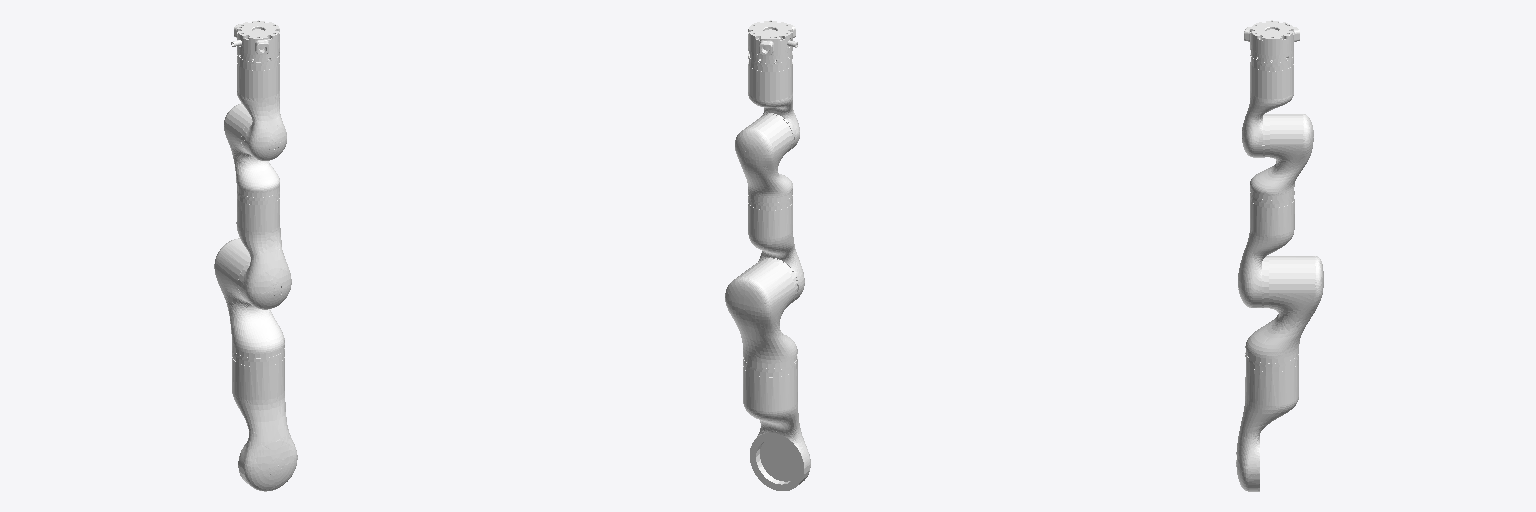
The robot description file, URDF, robot "rm_65_zf_description":
<?xml version="1.0" encoding="utf-8"?>
<!-- This URDF was automatically created by SolidWorks to URDF Exporter! Originally created by [author] ([email redacted]) 
     Commit Version: 1.6.0-1-g15f4949  Build Version: 1.6.7594.29634
     For more information, please see http://wiki.ros.org/sw_urdf_exporter -->
<robot
  name="rm_65_zf_description">
  <link
    name="base_link">
    <inertial>
      <origin
        xyz="-0.00043295 -3.5277E-05 0.059942"
        rpy="0 0 0" />
      <mass
        value="0.84105" />
      <inertia
        ixx="0.0017261"
        ixy="2.5273E-06"
        ixz="-3.6769E-05"
        iyy="0.0017099"
        iyz="1.6802E-06"
        izz="0.00090402" />
    </inertial>
    <visual>
      <origin
        xyz="0 0 0"
        rpy="0 0 0" />
      <geometry>
        <mesh
          filename="package://rm_65_zf_description/meshes/base_link.STL" />
      </geometry>
      <material
        name="">
        <color
          rgba="1 1 1 1" />
      </material>
    </visual>
    <collision>
      <origin
        xyz="0 0 0"
        rpy="0 0 0" />
      <geometry>
        <mesh
          filename="package://rm_65_zf_description/meshes/base_link.STL" />
      </geometry>
    </collision>
  </link>
  <link
    name="Link1">
    <inertial>
      <origin
        xyz="2.1376E-07 0.021108 -0.025186"
        rpy="0 0 0" />
      <mass
        value="0.59356" />
      <inertia
        ixx="0.0012661"
        ixy="-1.2951E-08"
        ixz="-9.8019E-09"
        iyy="0.0011817"
        iyz="-0.00021122"
        izz="0.00056135" />
    </inertial>
    <visual>
      <origin
        xyz="0 0 0"
        rpy="0 0 0" />
      <geometry>
        <mesh
          filename="package://rm_65_zf_description/meshes/Link1.STL" />
      </geometry>
      <material
        name="">
        <color
          rgba="1 1 1 1" />
      </material>
    </visual>
    <collision>
      <origin
        xyz="0 0 0"
        rpy="0 0 0" />
      <geometry>
        <mesh
          filename="package://rm_65_zf_description/meshes/Link1.STL" />
      </geometry>
    </collision>
  </link>
  <joint
    name="joint1"
    type="revolute">
    <origin
      xyz="0 0 0.2405"
      rpy="0 0 0" />
    <parent
      link="base_link" />
    <child
      link="Link1" />
    <axis
      xyz="0 0 1" />
    <limit
      lower="-3.107"
      upper="3.107"
      effort="100"
      velocity="1" />
  </joint>
  <link
    name="Link2">
    <inertial>
      <origin
        xyz="0.15226 -3.3311E-08 -0.0062026"
        rpy="0 0 0" />
      <mass
        value="0.86417" />
      <inertia
        ixx="0.00063254"
        ixy="-8.9995E-09"
        ixz="0.00042162"
        iyy="0.0020527"
        iyz="3.3025E-09"
        izz="0.0019528" />
    </inertial>
    <visual>
      <origin
        xyz="0 0 0"
        rpy="0 0 0" />
      <geometry>
        <mesh
          filename="package://rm_65_zf_description/meshes/Link2.STL" />
      </geometry>
      <material
        name="">
        <color
          rgba="1 1 1 1" />
      </material>
    </visual>
    <collision>
      <origin
        xyz="0 0 0"
        rpy="0 0 0" />
      <geometry>
        <mesh
          filename="package://rm_65_zf_description/meshes/Link2.STL" />
      </geometry>
    </collision>
  </link>
  <joint
    name="joint2"
    type="revolute">
    <origin
      xyz="0 0 0"
      rpy="1.5708 -1.5708 0" />
    <parent
      link="Link1" />
    <child
      link="Link2" />
    <axis
      xyz="0 0 1" />
    <limit
      lower="-2.269"
      upper="2.269"
      effort="100"
      velocity="1" />
  </joint>
  <link
    name="Link3">
    <inertial>
      <origin
        xyz="5.0444E-06 -0.059593 0.010569"
        rpy="0 0 0" />
      <mass
        value="0.28963" />
      <inertia
        ixx="0.00063737"
        ixy="-7.0522E-08"
        ixz="-3.8666E-08"
        iyy="0.00015648"
        iyz="-0.00014461"
        izz="0.00061418" />
    </inertial>
    <visual>
      <origin
        xyz="0 0 0"
        rpy="0 0 0" />
      <geometry>
        <mesh
          filename="package://rm_65_zf_description/meshes/Link3.STL" />
      </geometry>
      <material
        name="">
        <color
          rgba="1 1 1 1" />
      </material>
    </visual>
    <collision>
      <origin
        xyz="0 0 0"
        rpy="0 0 0" />
      <geometry>
        <mesh
          filename="package://rm_65_zf_description/meshes/Link3.STL" />
      </geometry>
    </collision>
  </link>
  <joint
    name="joint3"
    type="revolute">
    <origin
      xyz="0.256 0 0"
      rpy="0 0 1.5708" />
    <parent
      link="Link2" />
    <child
      link="Link3" />
    <axis
      xyz="0 0 1" />
    <limit
      lower="-2.356"
      upper="2.356"
      effort="100"
      velocity="1" />
  </joint>
  <link
    name="Link4">
    <inertial>
      <origin
        xyz="1.1017E-06 -0.018041 -0.021541"
        rpy="0 0 0" />
      <mass
        value="0.2394" />
      <inertia
        ixx="0.00028594"
        ixy="3.0742E-09"
        ixz="-2.2218E-09"
        iyy="0.00026273"
        iyz="4.4237E-05"
        izz="0.00011989" />
    </inertial>
    <visual>
      <origin
        xyz="0 0 0"
        rpy="0 0 0" />
      <geometry>
        <mesh
          filename="package://rm_65_zf_description/meshes/Link4.STL" />
      </geometry>
      <material
        name="">
        <color
          rgba="1 1 1 1" />
      </material>
    </visual>
    <collision>
      <origin
        xyz="0 0 0"
        rpy="0 0 0" />
      <geometry>
        <mesh
          filename="package://rm_65_zf_description/meshes/Link4.STL" />
      </geometry>
    </collision>
  </link>
  <joint
    name="joint4"
    type="revolute">
    <origin
      xyz="0 -0.21 0"
      rpy="1.5708 0 0" />
    <parent
      link="Link3" />
    <child
      link="Link4" />
    <axis
      xyz="0 0 1" />
    <limit
      lower="-3.107"
      upper="3.107"
      effort="100"
      velocity="1" />
  </joint>
  <link
    name="Link5">
    <inertial>
      <origin
        xyz="4.1856E-06 -0.059381 0.007368"
        rpy="0 0 0" />
      <mass
        value="0.21879" />
      <inertia
        ixx="0.00035054"
        ixy="-3.4999E-08"
        ixz="-1.8395E-08"
        iyy="0.00010493"
        iyz="-7.8243E-05"
        izz="0.00033448" />
    </inertial>
    <visual>
      <origin
        xyz="0 0 0"
        rpy="0 0 0" />
      <geometry>
        <mesh
          filename="package://rm_65_zf_description/meshes/Link5.STL" />
      </geometry>
      <material
        name="">
        <color
          rgba="1 1 1 1" />
      </material>
    </visual>
    <collision>
      <origin
        xyz="0 0 0"
        rpy="0 0 0" />
      <geometry>
        <mesh
          filename="package://rm_65_zf_description/meshes/Link5.STL" />
      </geometry>
    </collision>
  </link>
  <joint
    name="joint5"
    type="revolute">
    <origin
      xyz="0 0 0"
      rpy="-1.5708 0 0" />
    <parent
      link="Link4" />
    <child
      link="Link5" />
    <axis
      xyz="0 0 1" />
    <limit
      lower="-2.234"
      upper="2.234"
      effort="100"
      velocity="1" />
  </joint>
  <link
    name="Link6">
    <inertial>
      <origin
        xyz="0.00036825 1.0812E-05 -0.018563"
        rpy="0 0 0" />
      <mass
        value="0.094139" />
      <inertia
        ixx="2.4148E-05"
        ixy="-1.7169E-08"
        ixz="-1.1515E-08"
        iyy="2.2001E-05"
        iyz="-1.0241E-08"
        izz="3.9568E-05" />
    </inertial>
    <visual>
      <origin
        xyz="0 0 0"
        rpy="0 0 0" />
      <geometry>
        <mesh
          filename="package://rm_65_zf_description/meshes/Link6.STL" />
      </geometry>
      <material
        name="">
        <color
          rgba="1 1 1 1" />
      </material>
    </visual>
    <collision>
      <origin
        xyz="0 0 0"
        rpy="0 0 0" />
      <geometry>
        <mesh
          filename="package://rm_65_zf_description/meshes/Link6.STL" />
      </geometry>
    </collision>
  </link>
  <joint
    name="joint6"
    type="revolute">
    <origin
      xyz="0 -0.152 0"
      rpy="1.5708 0 0" />
    <parent
      link="Link5" />
    <child
      link="Link6" />
    <axis
      xyz="0 0 1" />
    <limit
      lower="-6.283"
      upper="6.283"
      effort="100"
      velocity="1" />
  </joint>
</robot>

--- What the picture shows (computed from the rendered views, not written in the file) ---
The picture shows the robot from 3 angles, left to right: view 1: azimuth 30°, elevation 25°; view 2: azimuth 150°, elevation 25°; view 3: azimuth 270°, elevation 25°; orthographic projection.
Robot: rm_65_zf_description — 7 links, 6 joints (6 revolute); root link base_link; default pose: all joints at 0.
Links seen in each view (by area): view 1: Link2, Link3, Link5, Link4, Link6; view 2: Link2, Link4, Link3, Link5, Link6; view 3: Link2, Link4, Link3, Link5, Link6.
Link boxes in pixels (bbox=[...]): Link2: bbox=[214, 238, 297, 491]; Link3: bbox=[236, 192, 291, 309]; Link5: bbox=[237, 57, 286, 160]; Link4: bbox=[224, 103, 279, 198]; Link6: bbox=[231, 20, 279, 63]; Link2: bbox=[725, 257, 810, 490]; Link4: bbox=[735, 113, 793, 203]; Link3: bbox=[748, 197, 804, 302]; Link5: bbox=[748, 57, 799, 148]; Link6: bbox=[748, 20, 797, 64]; Link2: bbox=[1236, 256, 1323, 491]; Link4: bbox=[1250, 114, 1313, 201]; Link3: bbox=[1238, 193, 1294, 307]; Link5: bbox=[1242, 58, 1293, 157]; Link6: bbox=[1244, 20, 1299, 64].
Size in the robot's own frame: 0.081 by 0.114 by 0.6585 metres.
5 mesh visuals loaded from 7 distinct referenced files (5 binary STL); not drawn: 2 (reference not matched to a file when rendering).